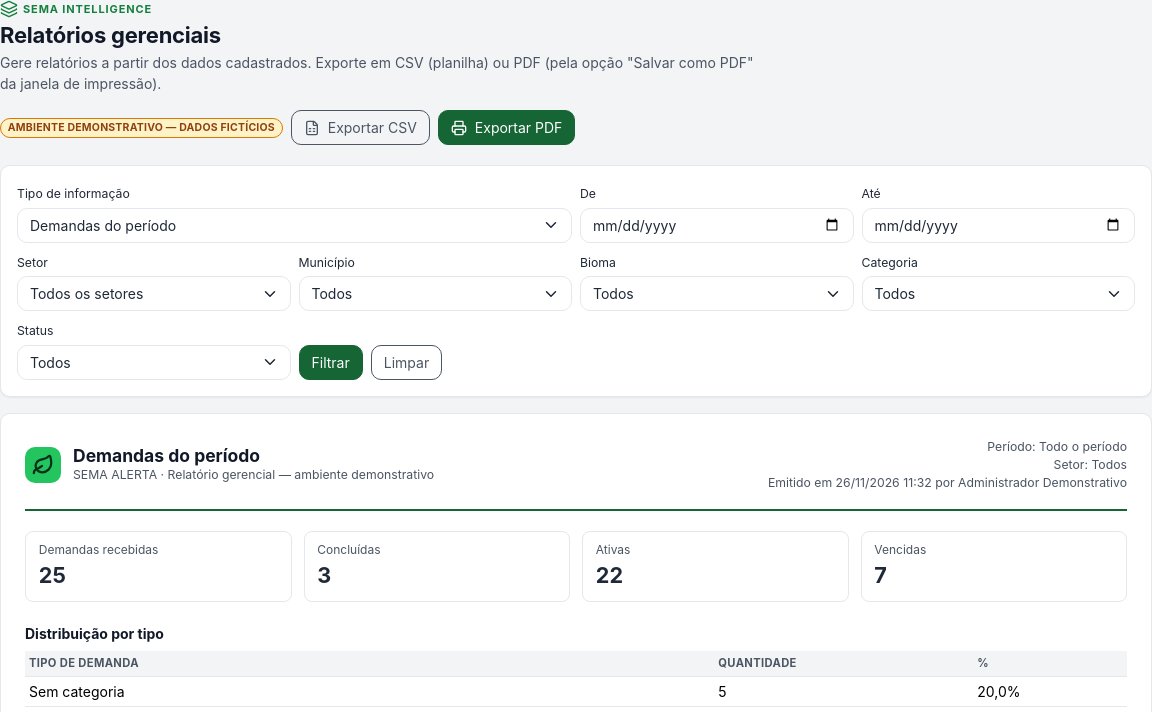
Scenario: RelatoriosPage › valida o período antes de consultar
Type "2026-10-20" into the date field labelled "De" at (717, 225), box [580,208,854,243]
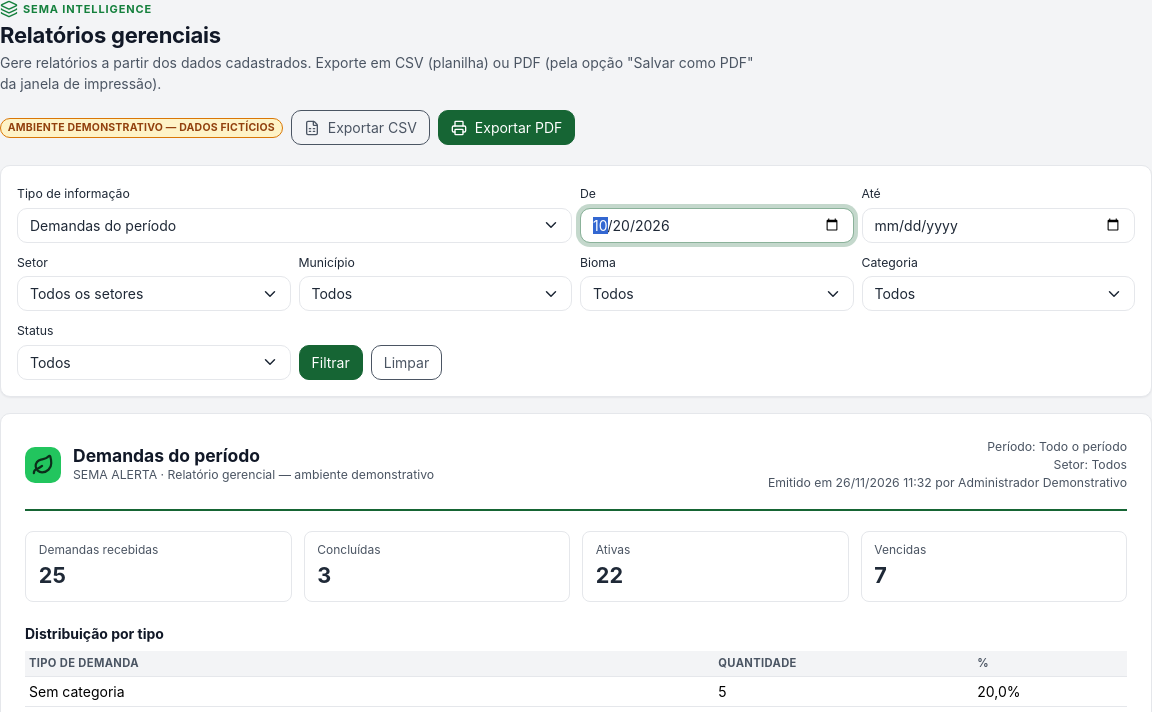
Type "2026-10-10" into the date field labelled "Até" at (998, 225), box [862,208,1135,243]
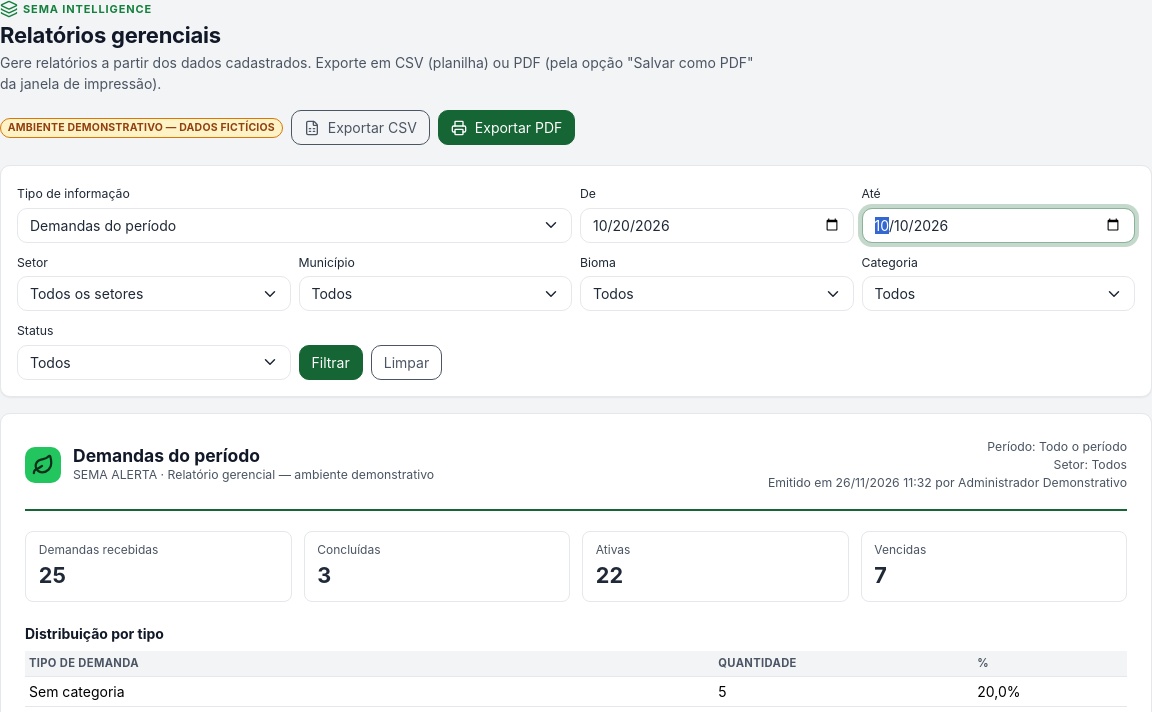
Click the button "Filtrar" at (331, 362), box [298,344,363,380]
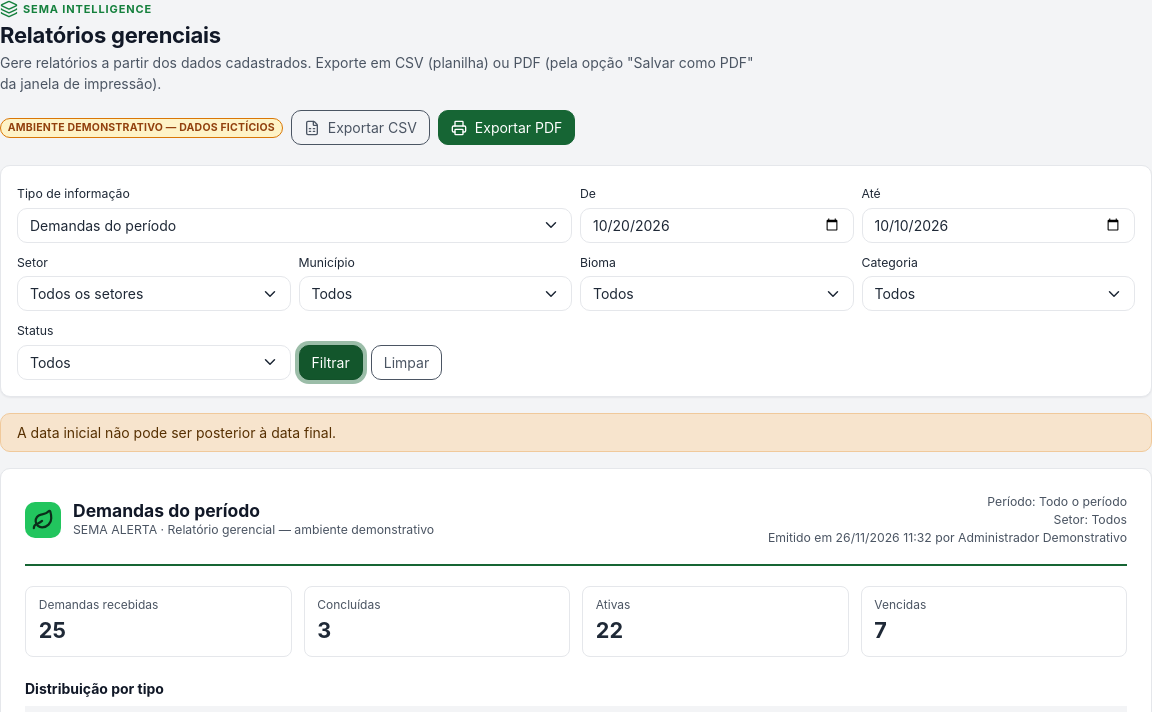
Expected: the message shows "não pode ser posterior", [17,424,336,440]
